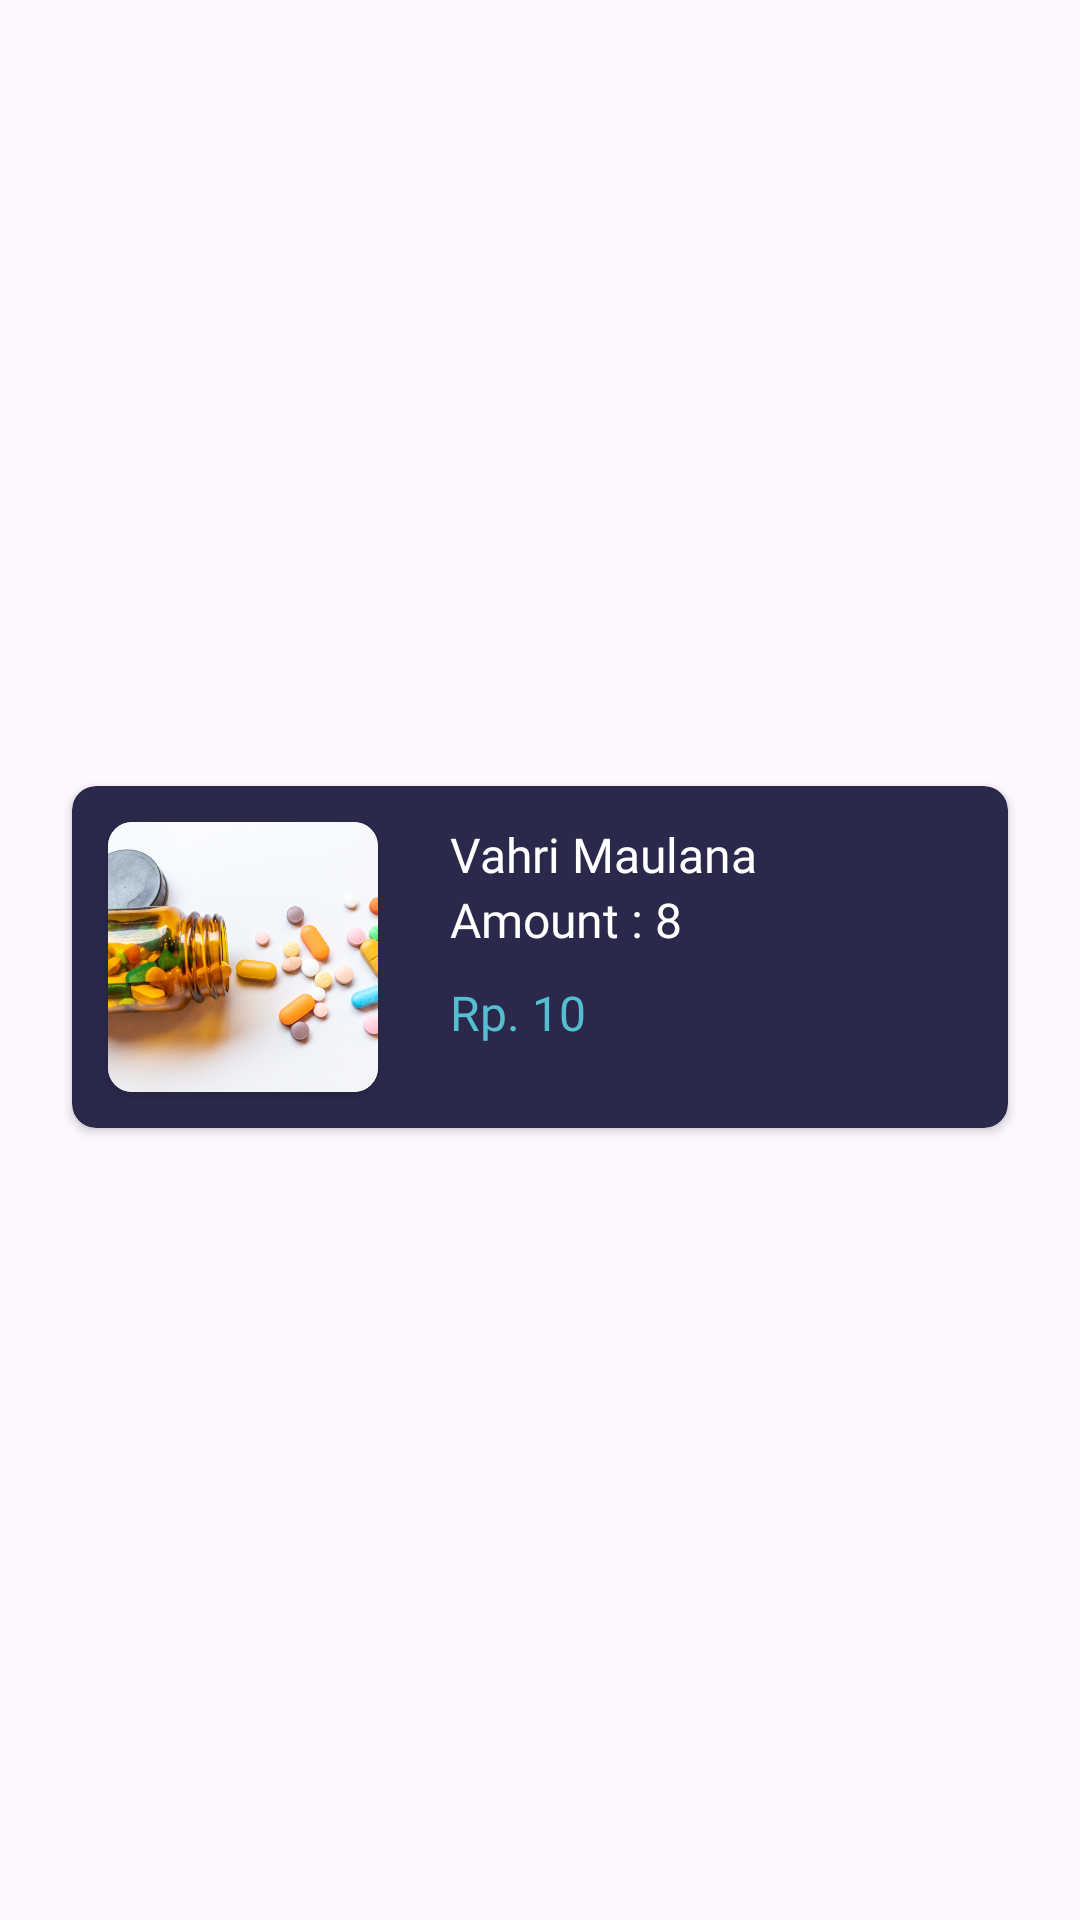

Screen size 1080px x 1920px. Icon name, then its center in pixels as (x,y):
ill obat: (243,957)
